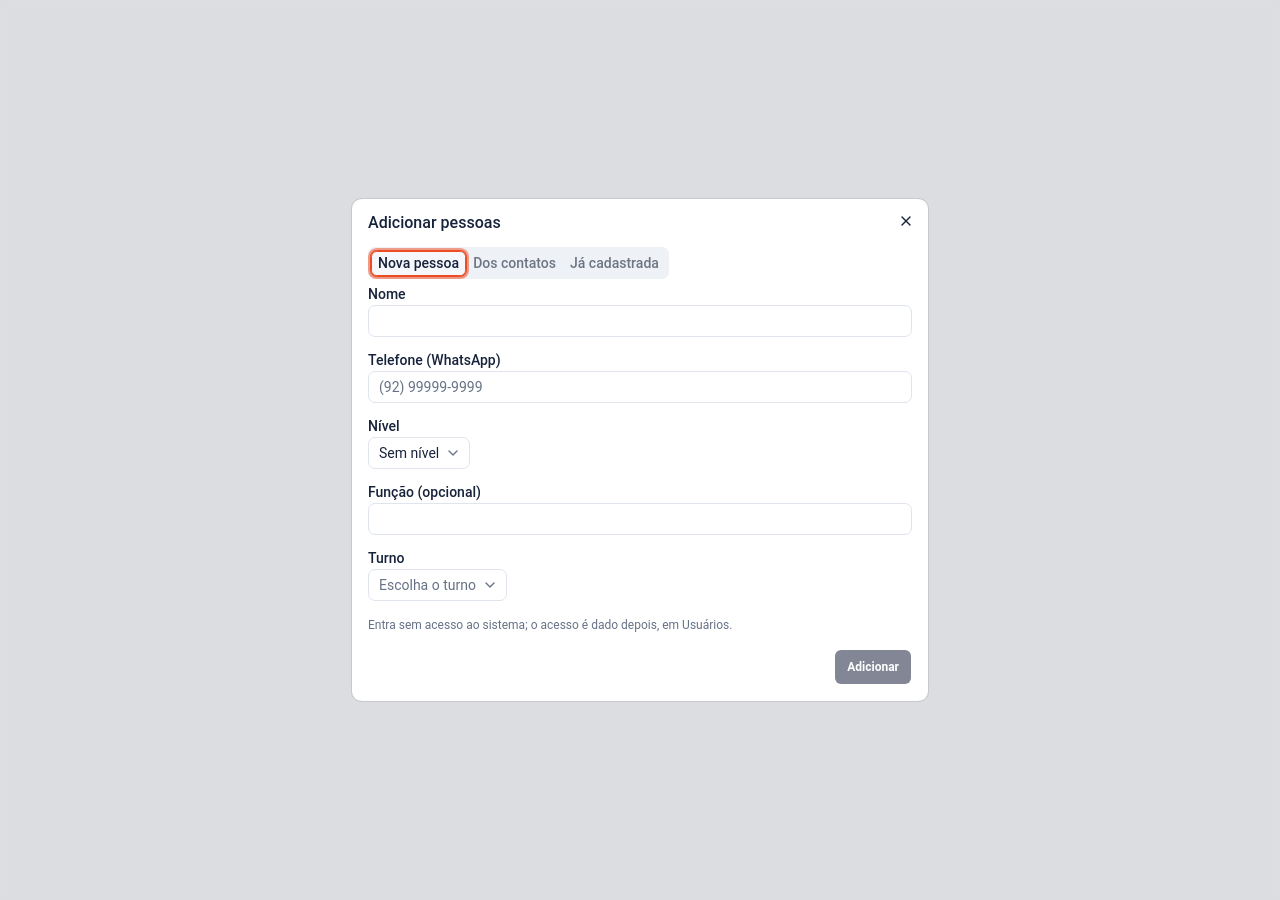
Test: AddPeopleDialog › três abas para ADMIN, cada uma com o seu conteúdo
The width and height of the screenshot is (1280, 900).
Check: the field labelled "Nome" is shown, box left=368, top=305, right=912, bottom=337
Click the tab "Dos contatos" at (514, 263), box left=466, top=250, right=563, bottom=276
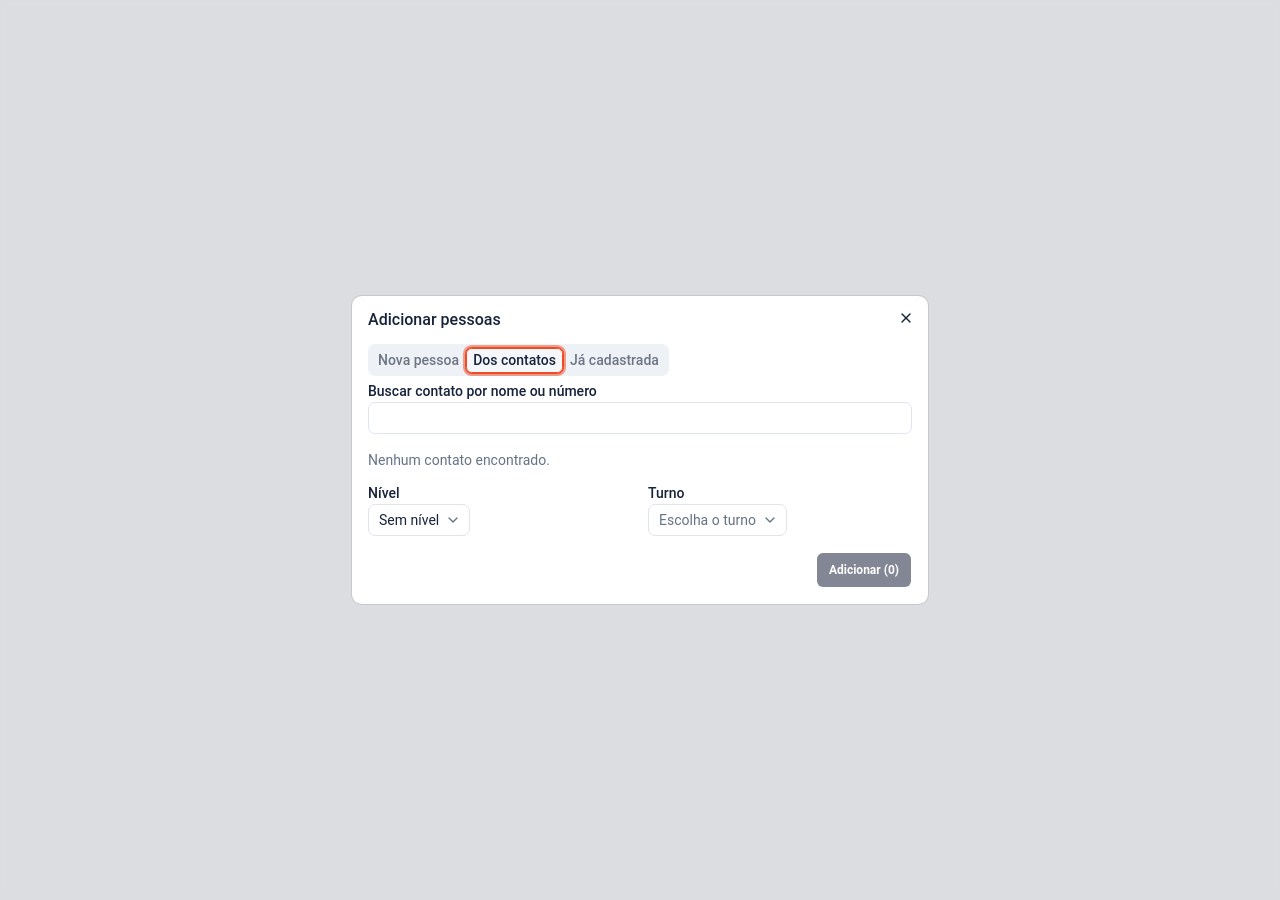
Check: the search field labelled "Buscar contato por nome ou número" is shown, box left=368, top=402, right=912, bottom=434
Click the tab "Já cadastrada" at (614, 360), box left=563, top=348, right=666, bottom=372
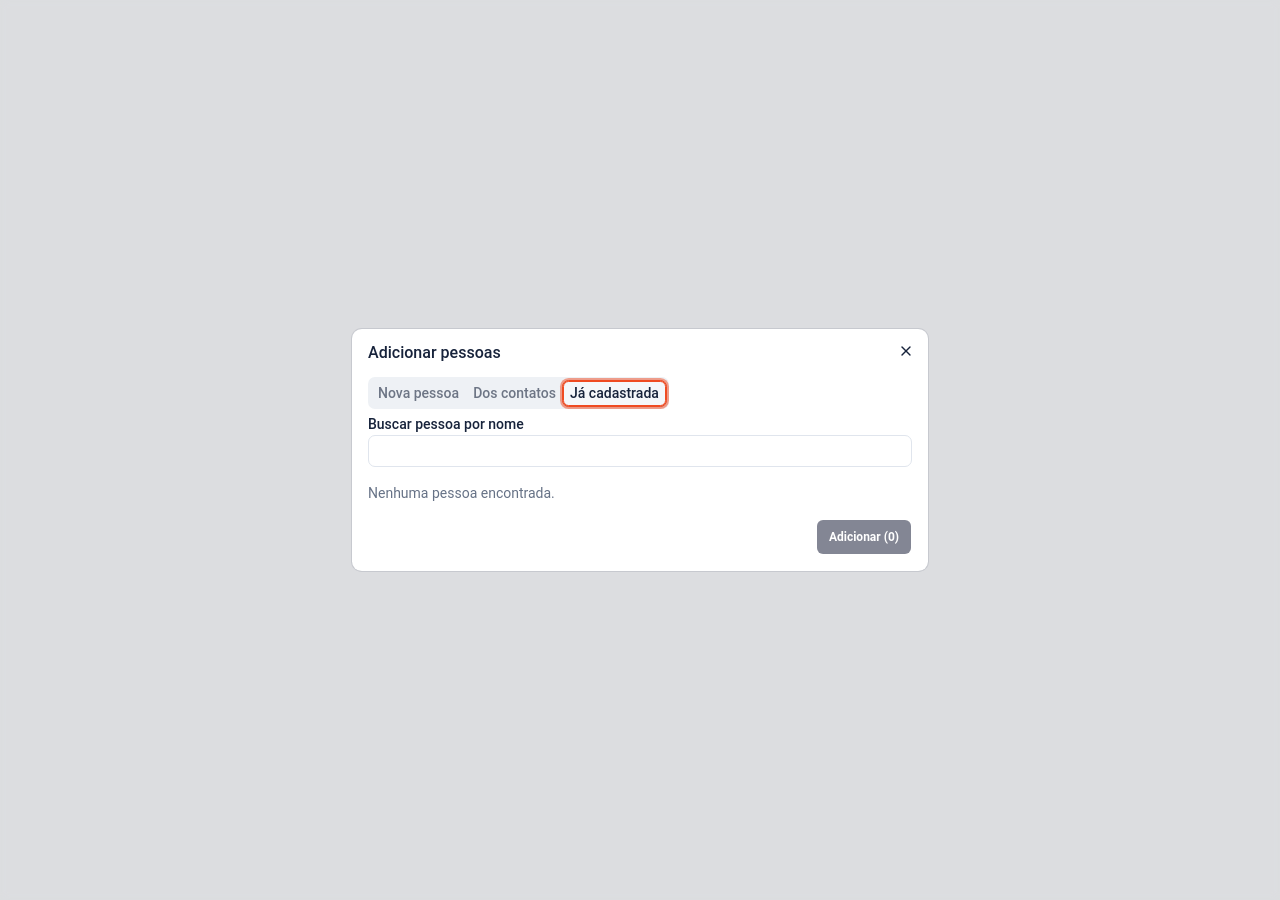
Check: the search field labelled "Buscar pessoa por nome" is shown, box left=368, top=435, right=912, bottom=467
